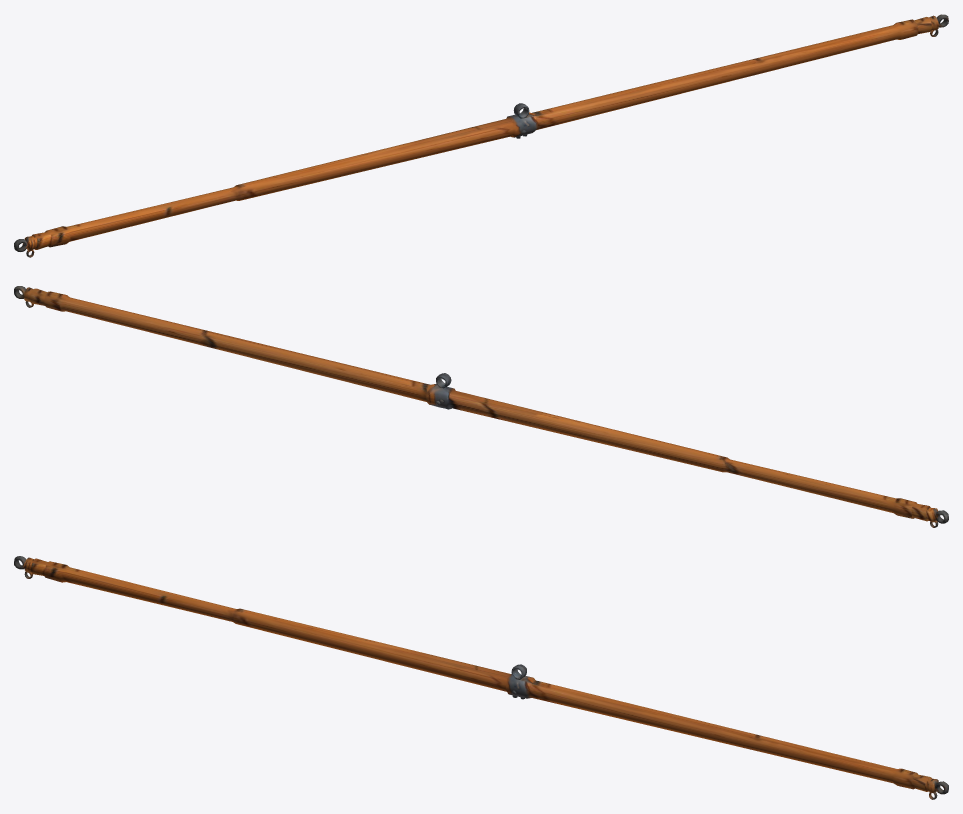
File: topsail_yard.glb
3 renders of one model, top to bottom at view 1: azimuth 30°, elevation 25°; view 2: azimuth 150°, elevation 25°; view 3: azimuth 330°, elevation 25°, orthographic.
Parts seen in each view (by area): view 1: topsail_yard; view 2: topsail_yard; view 3: topsail_yard.
Boxes of the visible parts, x1,y1,x2,y2 form: topsail_yard: [14, 14, 948, 257]; topsail_yard: [14, 286, 948, 527]; topsail_yard: [14, 556, 948, 799].
Bounding box in the file's own units: 5.2 × 0.18 × 0.1102.
Materials: 1 (1 with a texture image).
